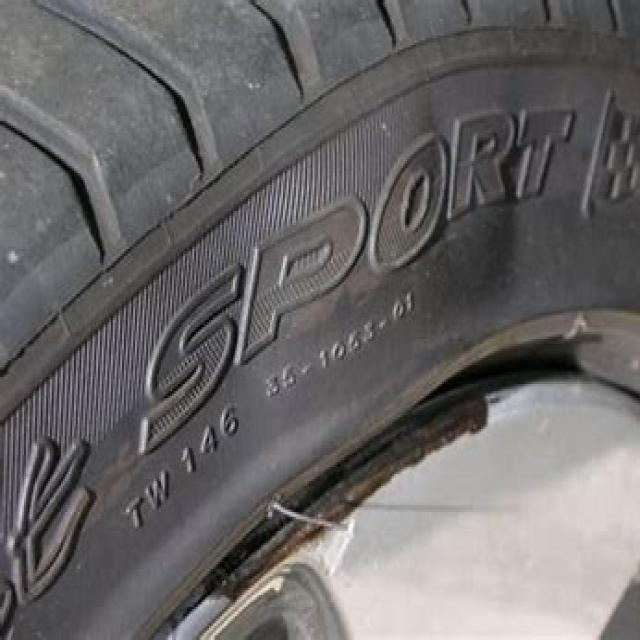Bulge: (252, 87, 424, 453)
